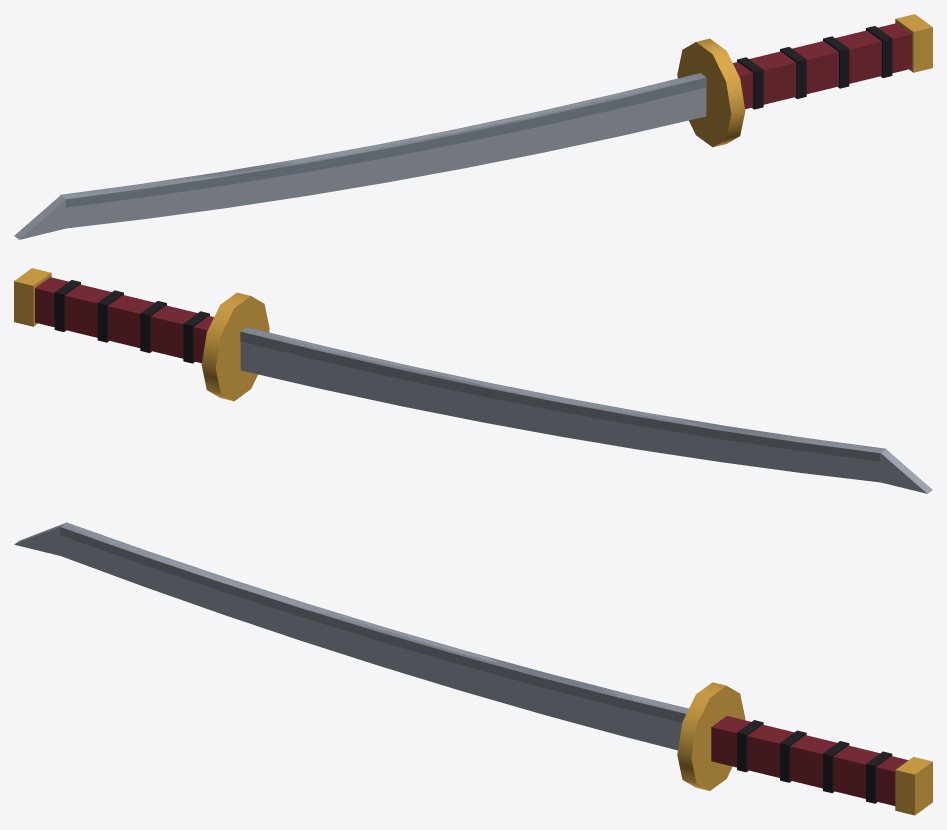
Rendered from katana.glb.
3 views of the same model, one above another, from view 1: azimuth 30°, elevation 25°; view 2: azimuth 150°, elevation 25°; view 3: azimuth 330°, elevation 25° (orthographic).
Visible parts, largest first — view 1: Katana; view 2: Katana; view 3: Katana.
Part boxes in pixels (x1,y1,x2,y2): Katana: (14,14,932,239); Katana: (14,268,932,493); Katana: (14,522,932,815).
Size of the model in its own units: 1.16 by 0.1231 by 0.12.
